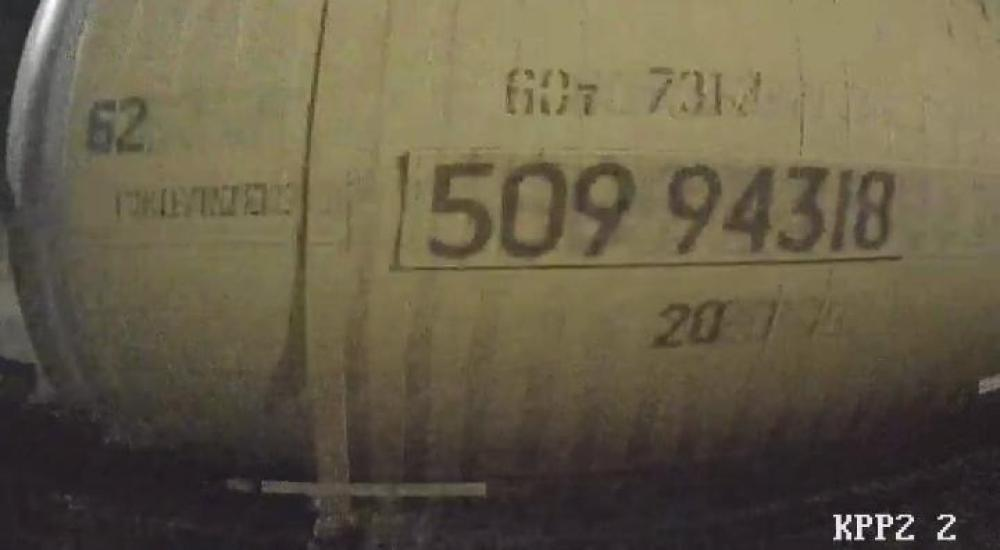Wagon-number: (421, 148, 904, 265)
